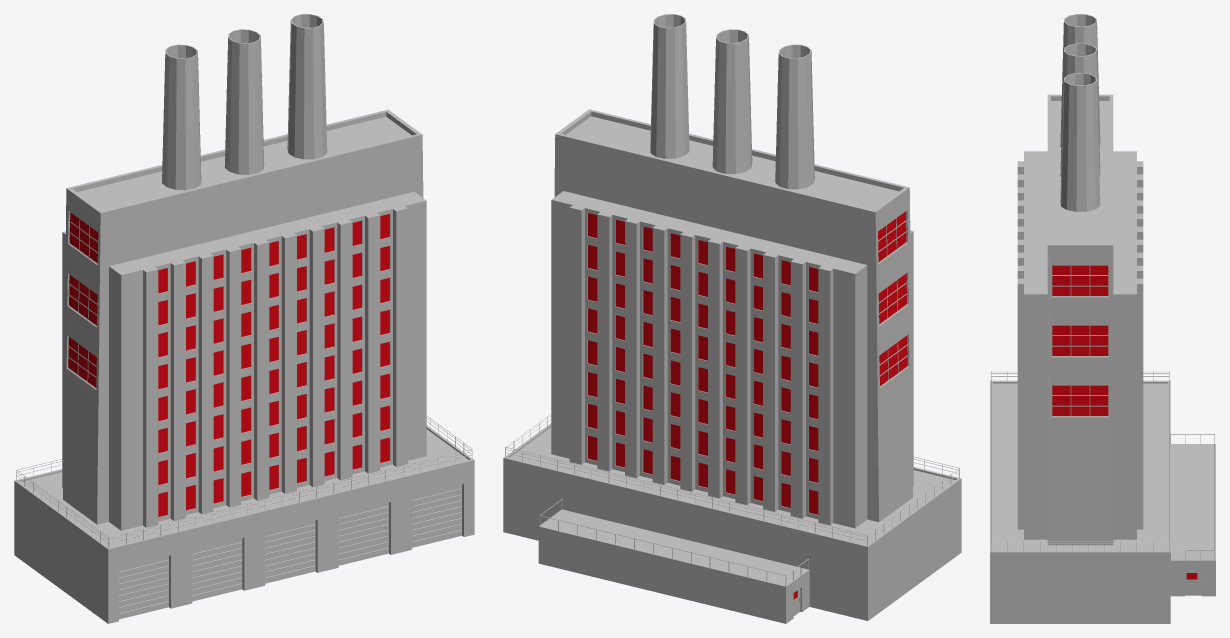
Rendered from SM_infrastructure_buildings_010.gltf.
3 views of the same model, side by side, from view 1: azimuth 30°, elevation 25°; view 2: azimuth 150°, elevation 25°; view 3: azimuth 270°, elevation 25° (orthographic). The views are drawn at different scales.
Parts seen in each view (by area): view 1: infrastructure_buildings_010; view 2: infrastructure_buildings_010; view 3: infrastructure_buildings_010.
Boxes of the visible parts, x1,y1,x2,y2 form: infrastructure_buildings_010: [14, 14, 474, 623]; infrastructure_buildings_010: [503, 14, 961, 623]; infrastructure_buildings_010: [990, 14, 1215, 623].
Size of the model in its own units: 36 by 47.73 by 20.
